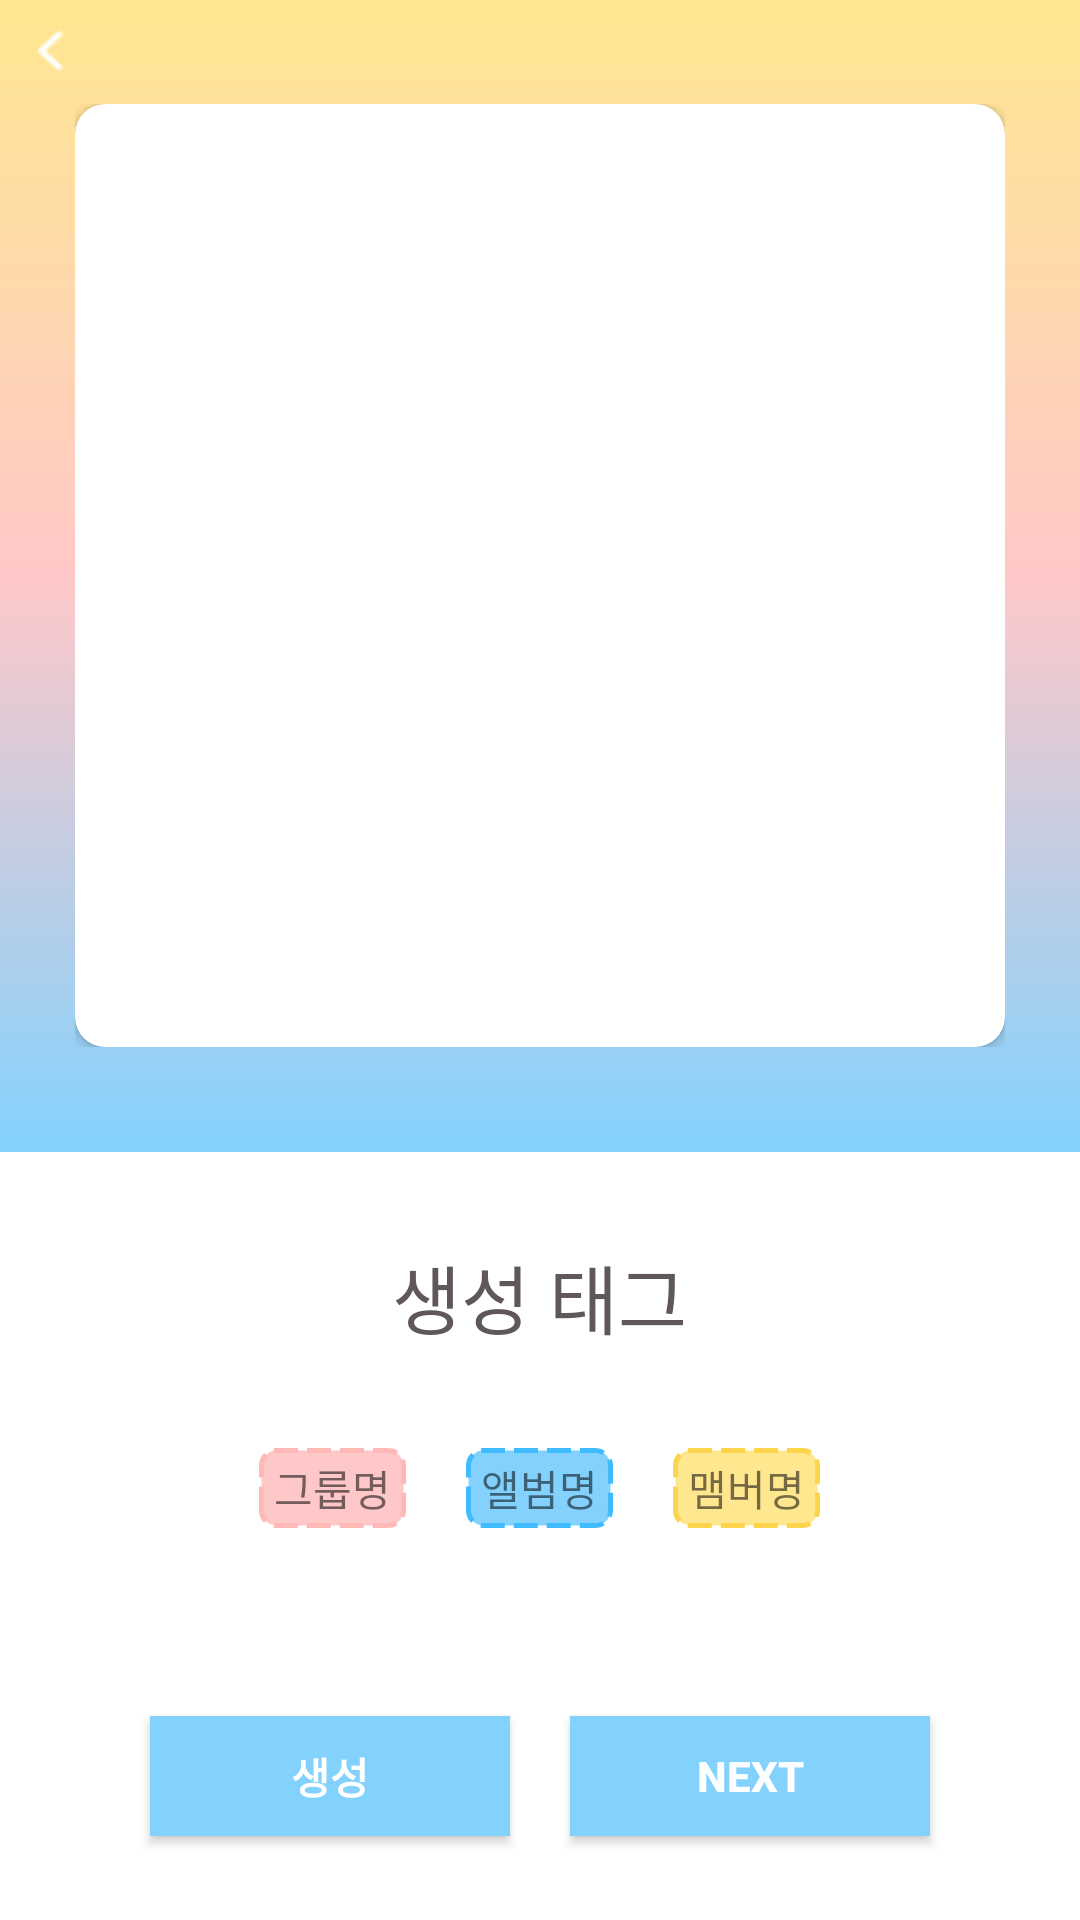

Icon bounding boxes for this 1080*1920 phone screenshot, format (x1, y1, x2, y2):
back: (38, 30, 63, 71)
